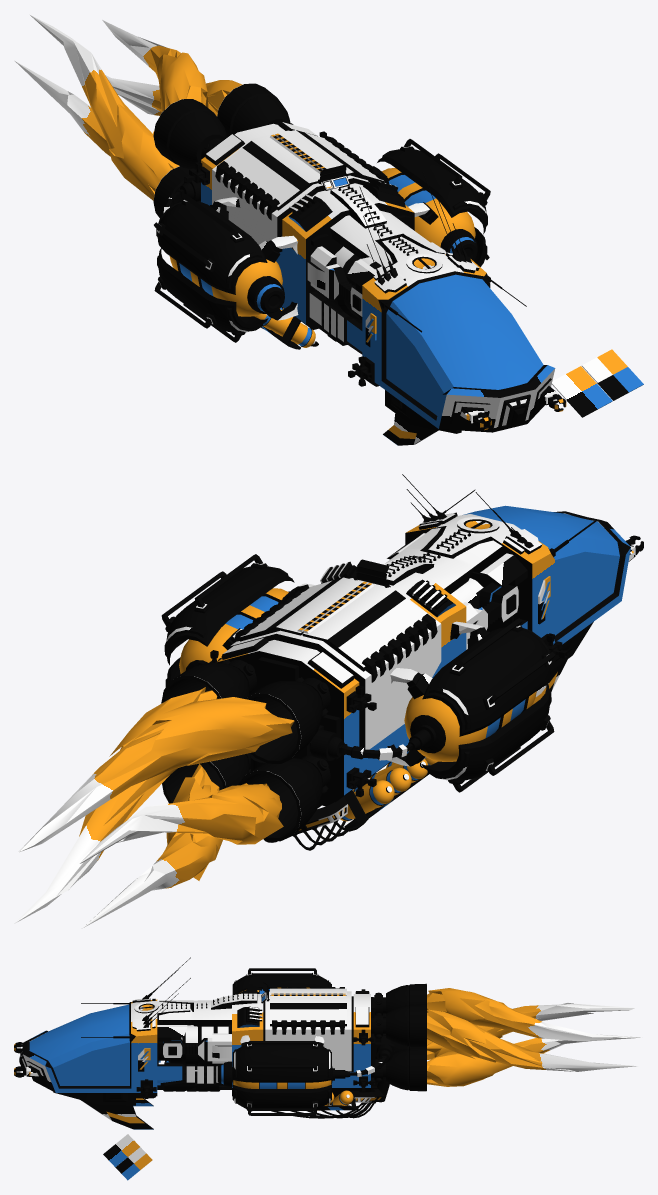
The model's file is asset.gltf.
3 views of the same model, one above another, from view 1: azimuth 30°, elevation 25°; view 2: azimuth 150°, elevation 25°; view 3: azimuth 270°, elevation 25° (orthographic). The views are drawn at different scales.
Parts seen in each view (by area): view 1: Cube, Cylinder.001, Cylinder.004, Cylinder.003, Plane, Cylinder.002, Cube.003; view 2: Cube, Cylinder.004, Cylinder.001, Cylinder.003, Cube.002, Cylinder.002, Cube.003, Cylinder, BezierCurve.001; view 3: Cube, Cylinder.004, Cylinder.001, Cylinder.003, Cube.002, Plane, Cylinder, BezierCurve, Cube.003.
Part boxes in pixels (x1,y1,x2,y2): Cube: [201, 122, 566, 445]; Cylinder.001: [154, 139, 490, 342]; Cylinder.004: [15, 15, 242, 200]; Cylinder.003: [153, 83, 290, 217]; Plane: [552, 349, 643, 417]; Cylinder.002: [254, 307, 315, 347]; Cube.003: [184, 131, 371, 386]; Cube: [217, 474, 643, 828]; Cylinder.004: [14, 687, 294, 928]; Cylinder.001: [161, 554, 555, 792]; Cylinder.003: [161, 663, 322, 841]; Cube.002: [250, 657, 430, 842]; Cylinder.002: [340, 750, 437, 821]; Cube.003: [197, 633, 567, 797]; Cylinder: [221, 659, 330, 794]; BezierCurve.001: [339, 743, 412, 760]; Cube: [14, 957, 370, 1129]; Cylinder.004: [427, 988, 641, 1086]; Cylinder.001: [232, 968, 334, 1115]; Cylinder.003: [386, 983, 426, 1091]; Cube.002: [335, 998, 394, 1102]; Plane: [103, 1134, 152, 1180]; Cylinder: [371, 992, 385, 1082]; BezierCurve: [271, 1102, 375, 1118]; Cube.003: [136, 989, 373, 1098].
Bounding box in the file's own units: 642 × 398 × 1514.
1 material, 1 textured.
